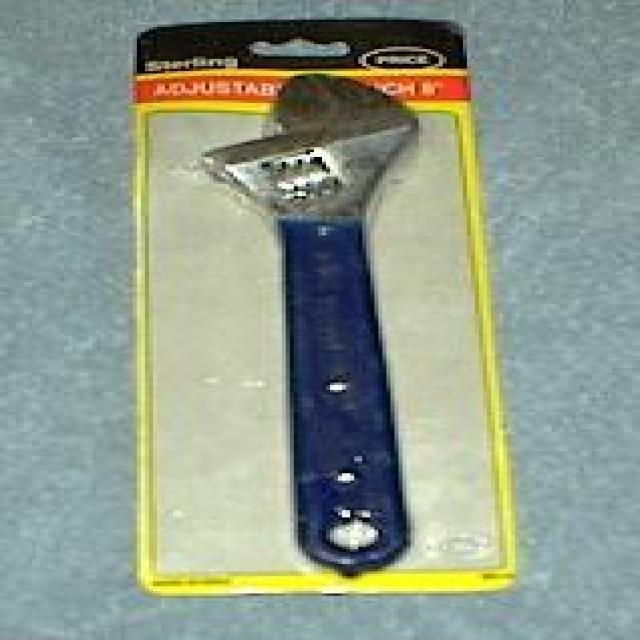wrench: (177, 60, 488, 585)
